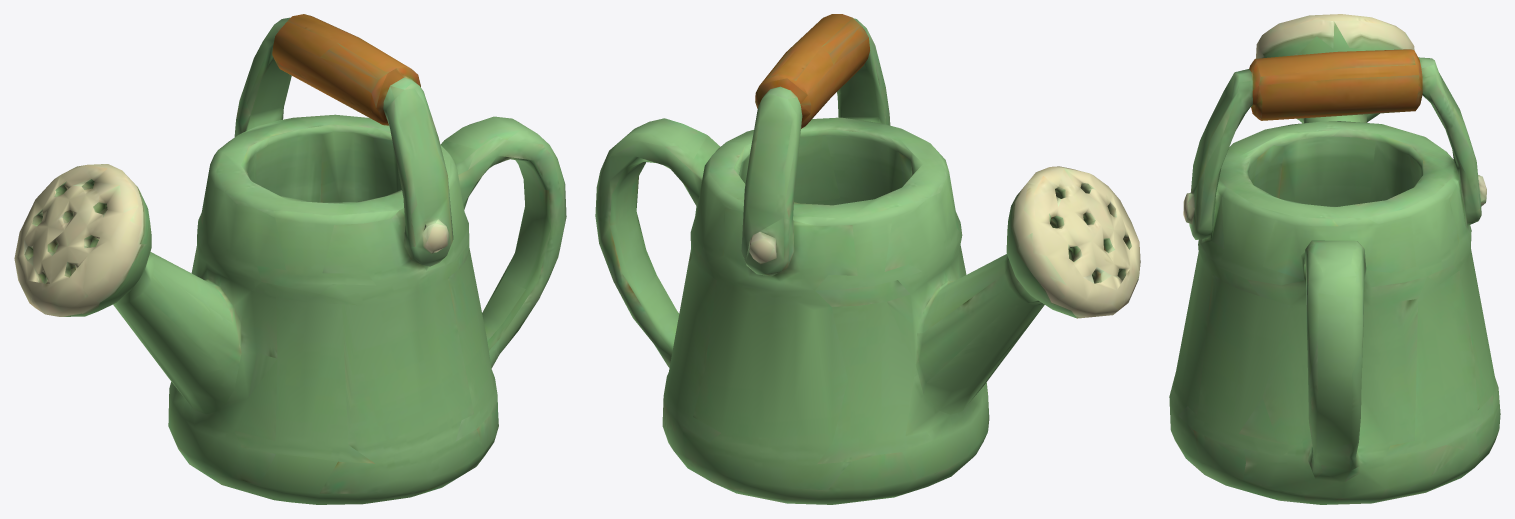
The picture shows the model from 3 angles, left to right: view 1: azimuth 30°, elevation 25°; view 2: azimuth 150°, elevation 25°; view 3: azimuth 270°, elevation 25°; orthographic projection.
Visible parts, largest first — view 1: watering-can; view 2: watering-can; view 3: watering-can.
Part boxes in pixels (<box>): watering-can: <box>14,14,566,504</box>; watering-can: <box>595,14,1140,504</box>; watering-can: <box>1169,14,1500,504</box>.
Bounding box in the file's own units: 0.4812 × 0.3501 × 0.265.
Materials: 1 (1 with a texture image).
